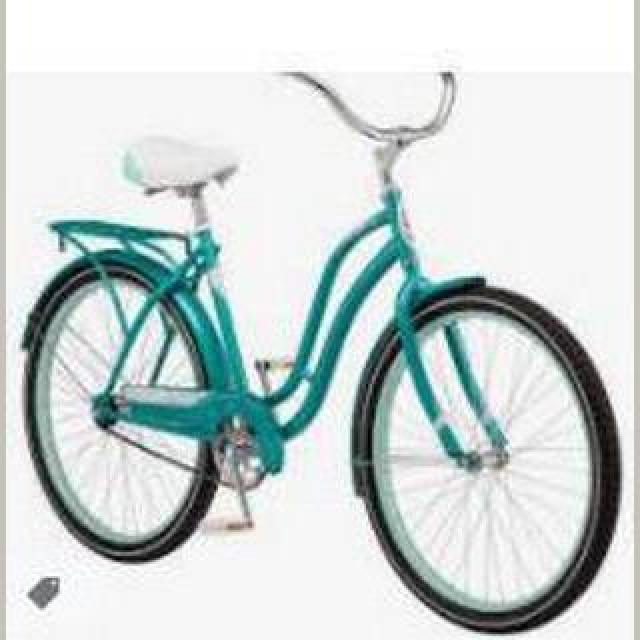Person: (15, 70, 621, 640)
